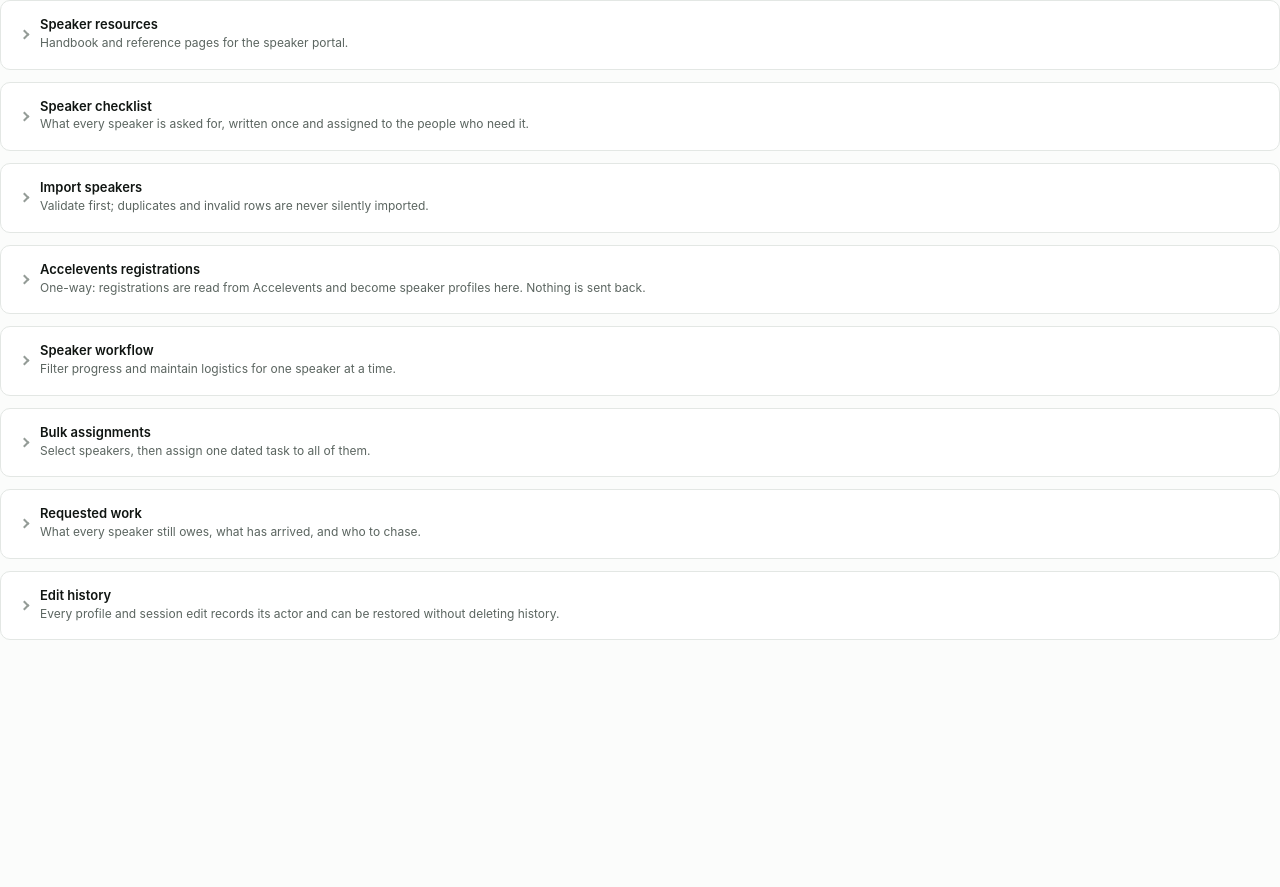
the organizer's tool panels › keeps one resource editor open at a time
Step 1. Click the heading that starts with "Speaker resources" → click(194, 33), box [40, 16, 348, 50]
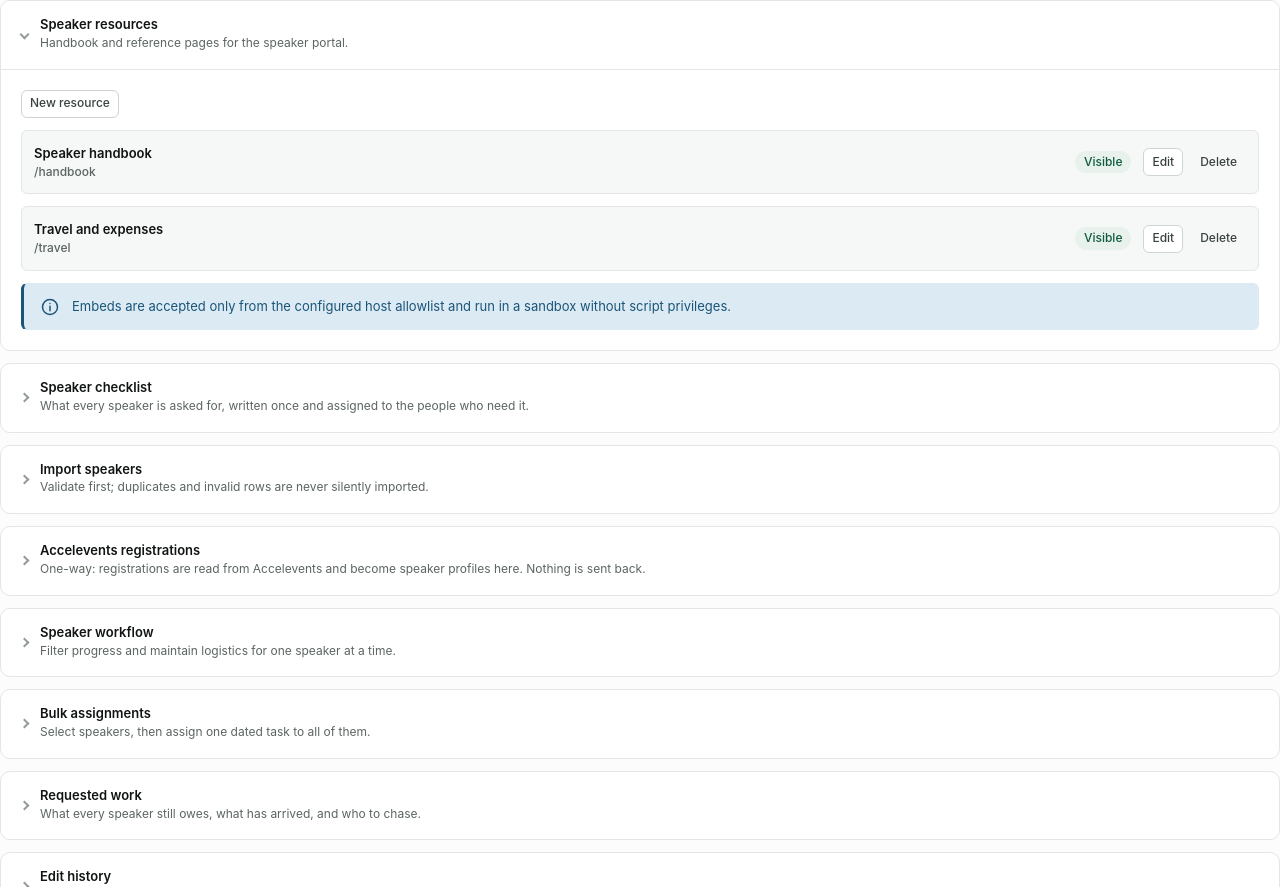
Expected: the field labelled "Title" is not shown
Step 2. Click the button named "Edit Speaker handbook" → click(1163, 162), box [1143, 148, 1183, 176]
(page scrolled)
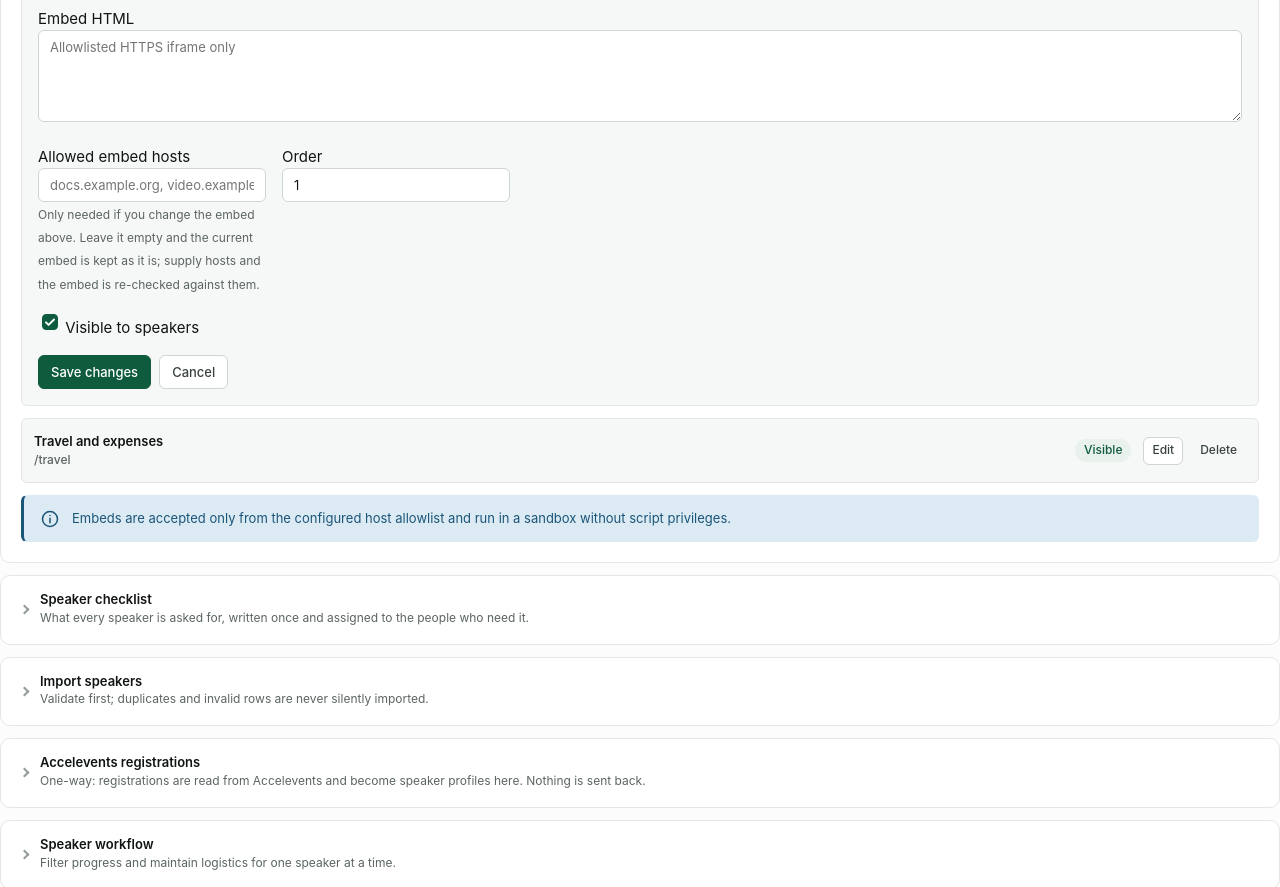
Step 3. Click the button named "Edit Travel and expenses" → click(1163, 451), box [1143, 437, 1183, 465]
(page scrolled)
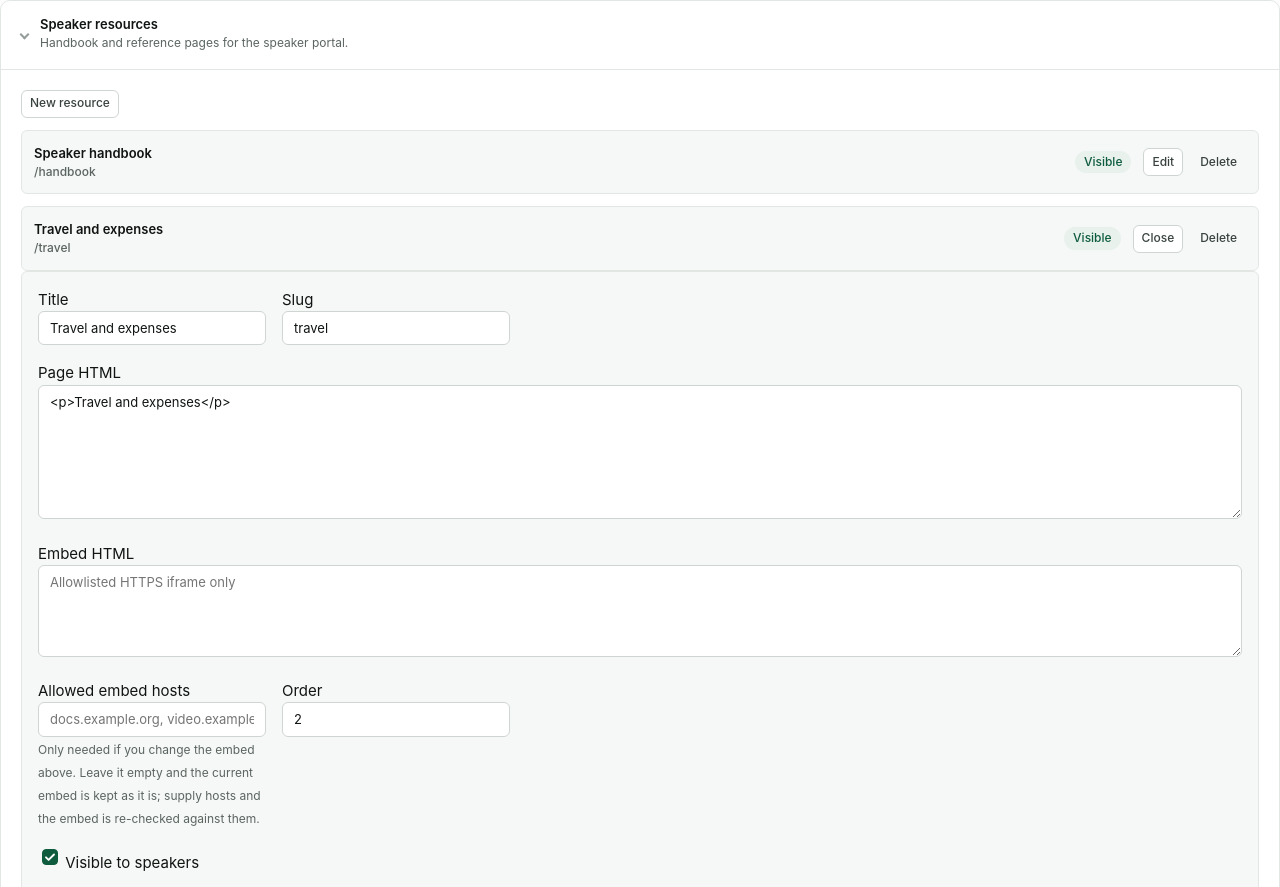
Now the number of fields labelled "Title" is 1, box [38, 311, 266, 345]
Now the field labelled "Title" holds "Travel and expenses", box [38, 311, 266, 345]
Now the button named "Edit Speaker handbook" is collapsed, box [1143, 148, 1183, 176]
Step 4. Click the button "New resource" → click(70, 104), box [21, 90, 119, 118]
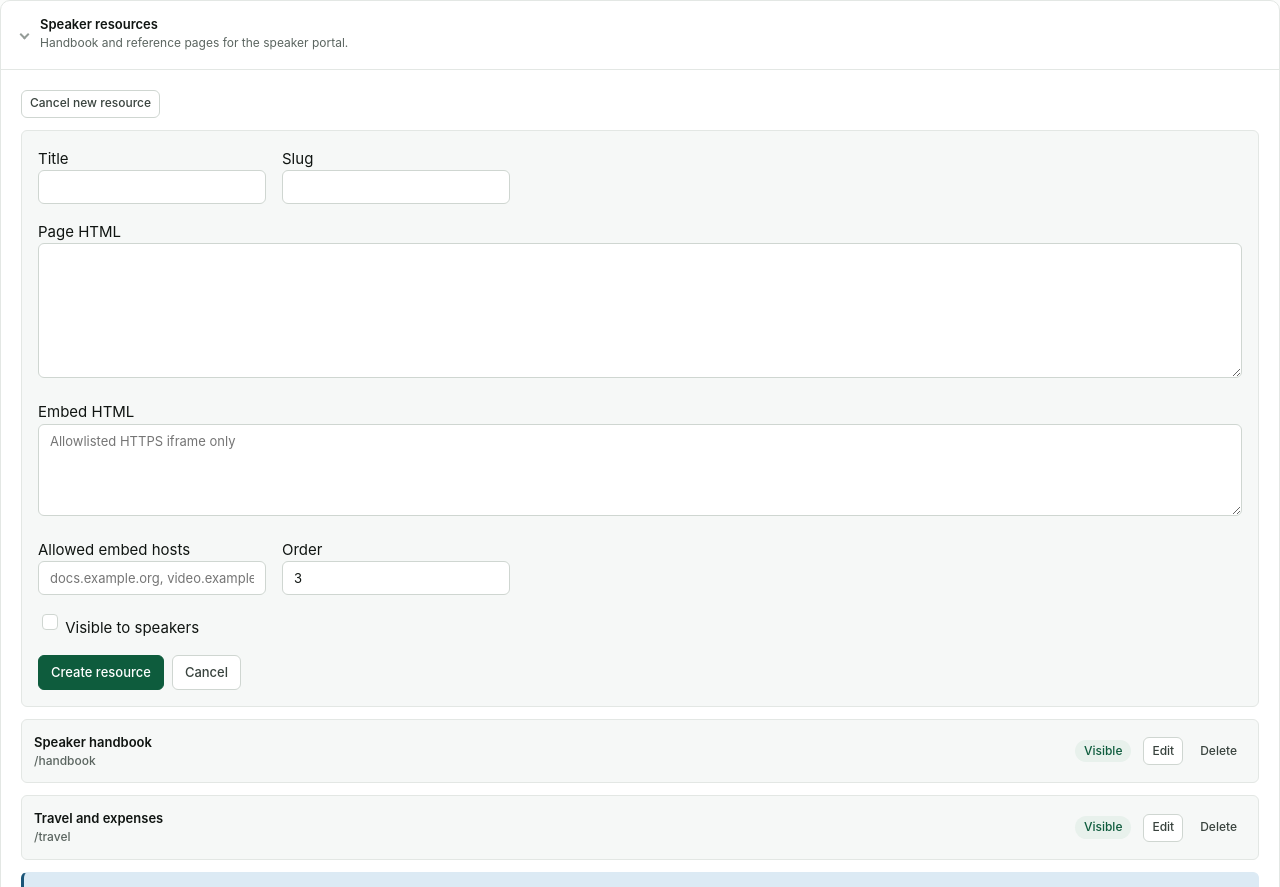
Now the number of fields labelled "Title" is 1, box [38, 170, 266, 204]
Now the button "Create resource" is shown, box [38, 655, 164, 690]
